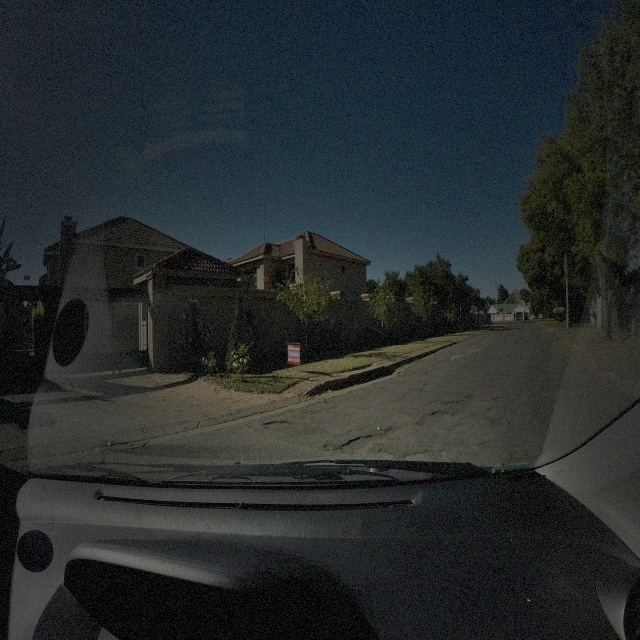pothole: (340, 431, 378, 454), (264, 424, 288, 431), (430, 412, 444, 419), (466, 394, 472, 405)
